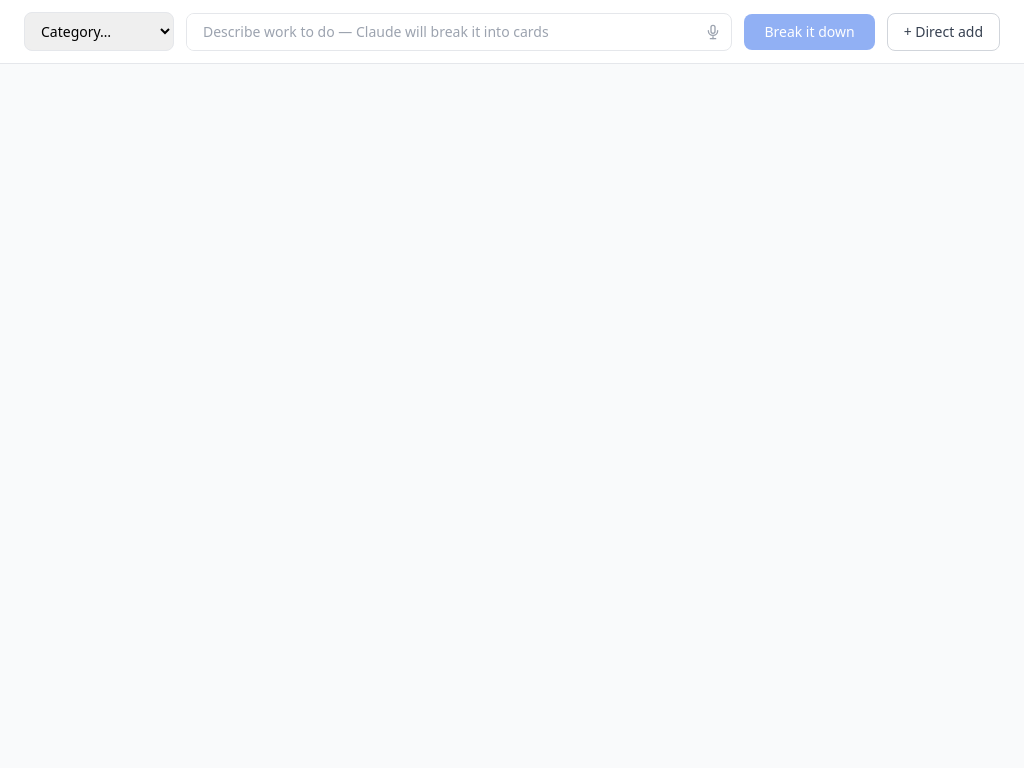
Test case: PromptBar › after successful parse, WorkItemConfirm dialog appears with returned items
This screenshot has width=1024, height=768.
Select "Frontend" in the dropdown at (99, 32), box [24,12,174,51]
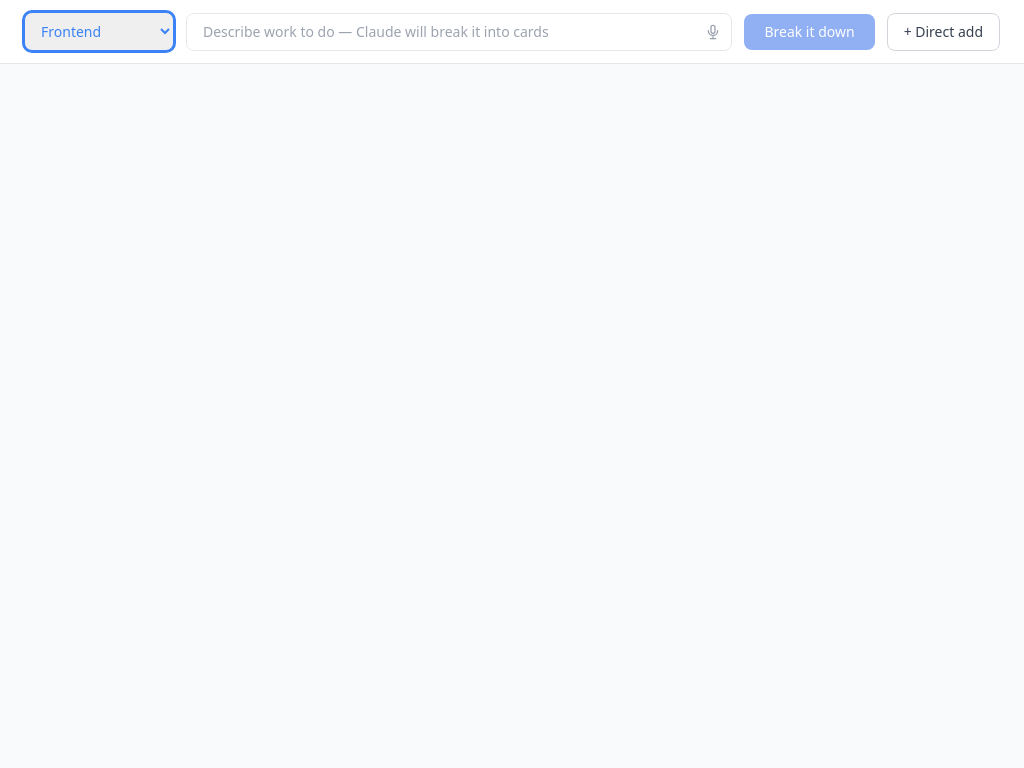
Type "Build a login page" into the field with placeholder "Describe work to do — Claude will break it into cards" at (438, 32), box [187,14,689,50]
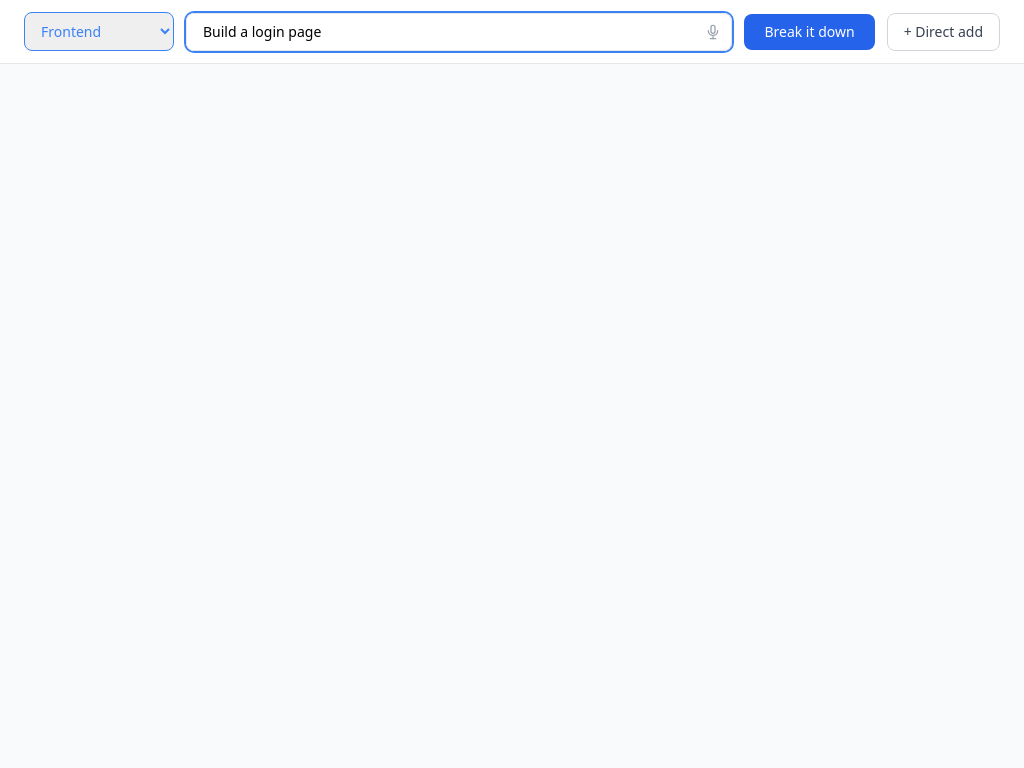
Click the button "Break it down" at (810, 32), box [744,14,875,50]
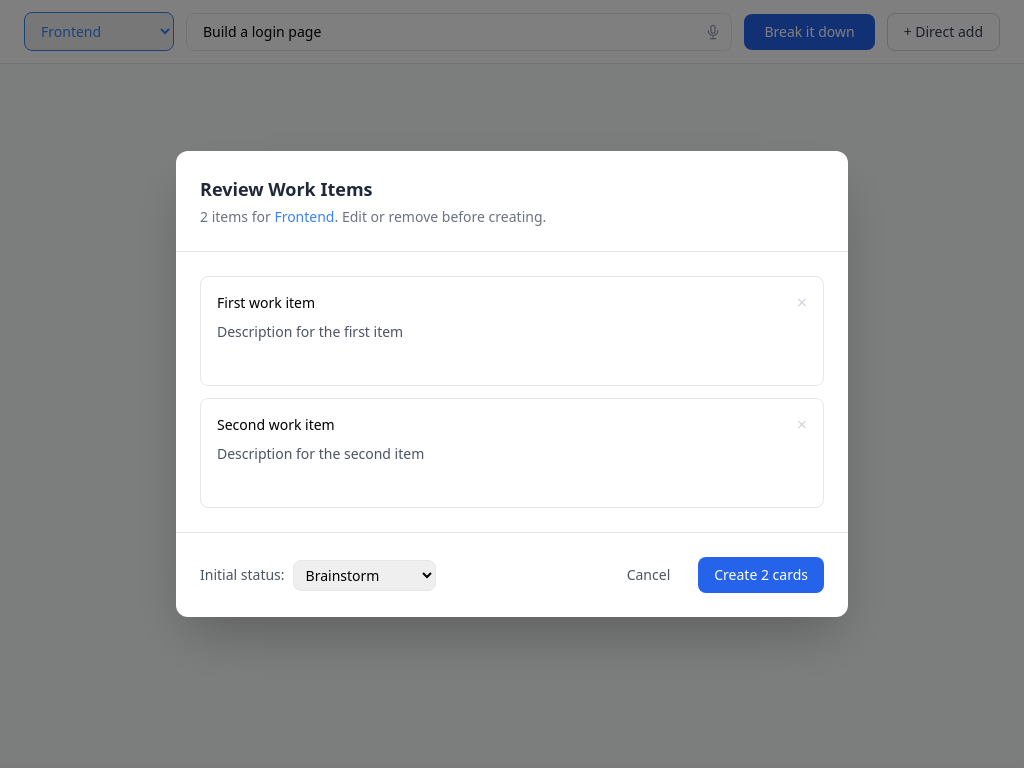
Check: the 1st field showing "First work item" is shown, box [217,293,789,314]
Check: the 2nd field showing "Second work item" is shown, box [217,415,789,436]
Check: the heading "Review Work Items" is shown, box [200,177,372,201]
